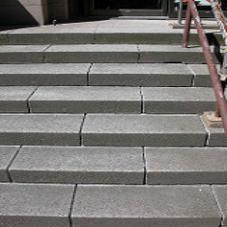Stair Up: (0, 33, 227, 226)
